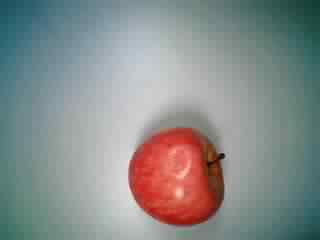apple: (124, 126, 228, 230)
